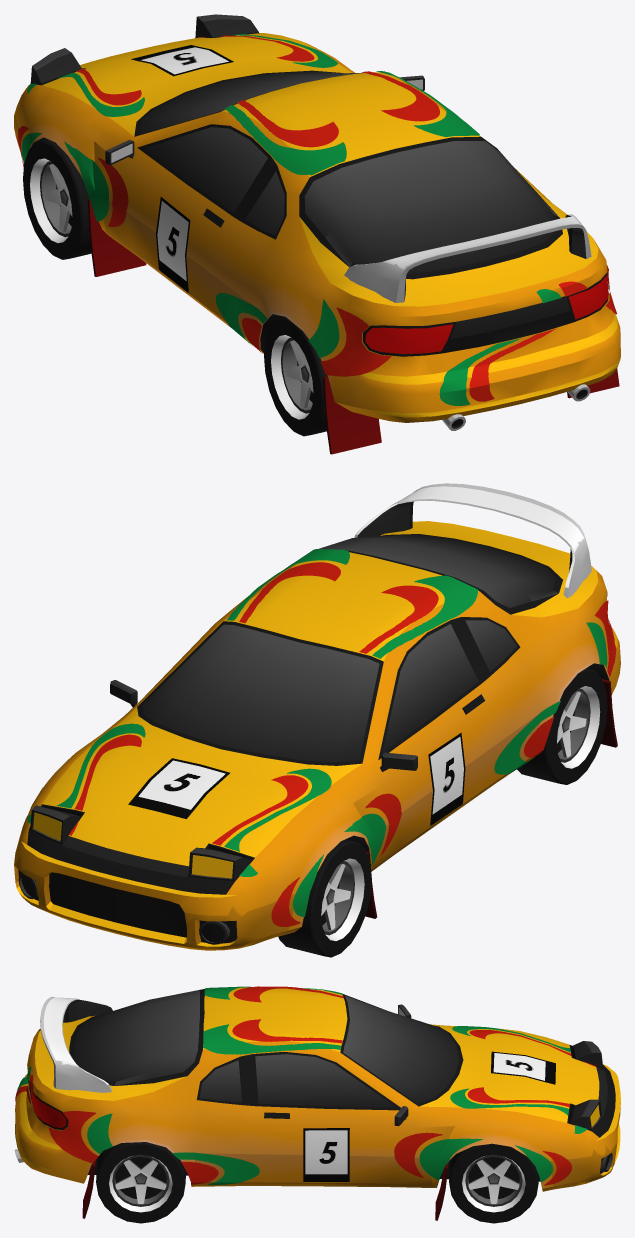
Rendered from CAR1.fbx.
The picture shows the model from 3 angles, top to bottom: view 1: azimuth 30°, elevation 25°; view 2: azimuth 150°, elevation 25°; view 3: azimuth 270°, elevation 25°; orthographic projection. The views are drawn at different scales.
Visible parts, largest first — view 1: Demo_Do_Not_Use_Texture_Atlas_0.002, Demo_Do_Not_Use_Texture_Atlas_0.003, Demo_Do_Not_Use_Texture_Atlas_0.005; view 2: Demo_Do_Not_Use_Texture_Atlas_0.002, Demo_Do_Not_Use_Texture_Atlas_0.003, Demo_Do_Not_Use_Texture_Atlas_0.005; view 3: Demo_Do_Not_Use_Texture_Atlas_0.002, Demo_Do_Not_Use_Texture_Atlas_0.006, Demo_Do_Not_Use_Texture_Atlas_0.001.
Part boxes in pixels (bbox=[...]): Demo_Do_Not_Use_Texture_Atlas_0.002: bbox=[14, 14, 620, 454]; Demo_Do_Not_Use_Texture_Atlas_0.003: bbox=[23, 139, 91, 259]; Demo_Do_Not_Use_Texture_Atlas_0.005: bbox=[264, 316, 327, 436]; Demo_Do_Not_Use_Texture_Atlas_0.002: bbox=[14, 483, 620, 950]; Demo_Do_Not_Use_Texture_Atlas_0.003: bbox=[278, 839, 371, 957]; Demo_Do_Not_Use_Texture_Atlas_0.005: bbox=[517, 668, 607, 784]; Demo_Do_Not_Use_Texture_Atlas_0.002: bbox=[14, 986, 620, 1220]; Demo_Do_Not_Use_Texture_Atlas_0.006: bbox=[96, 1142, 185, 1223]; Demo_Do_Not_Use_Texture_Atlas_0.001: bbox=[449, 1143, 538, 1223].
Bounding box in the file's own units: 214 × 144 × 487.
2 materials, 2 textured.
